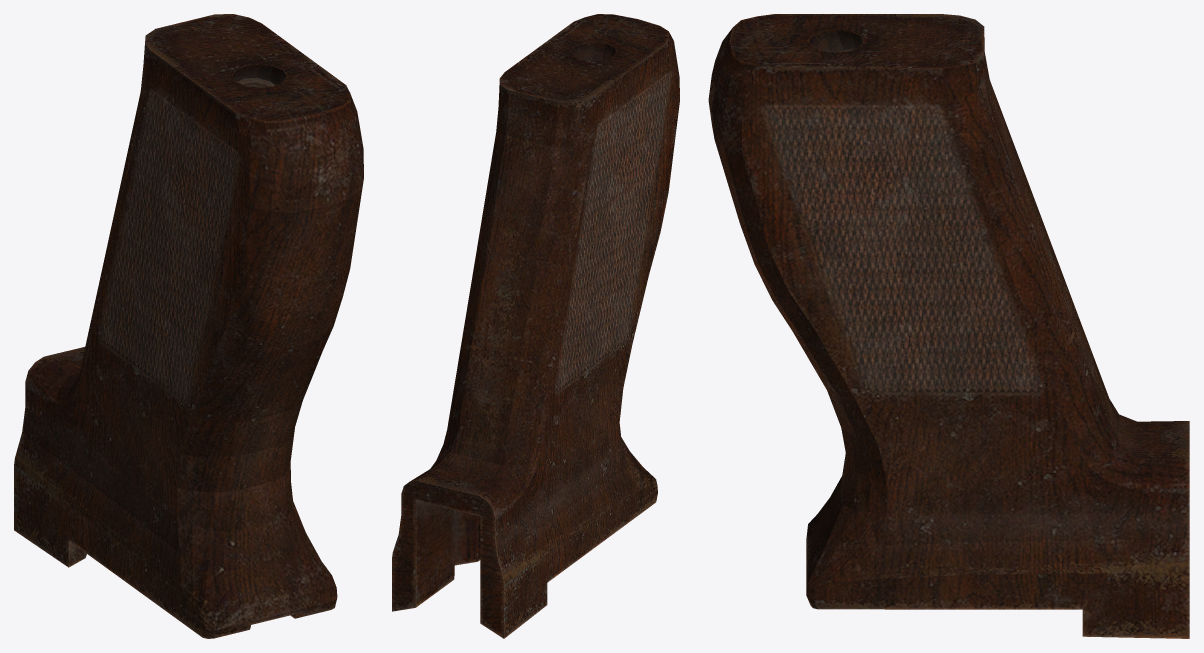
3 views of the same model, side by side, from view 1: azimuth 30°, elevation 25°; view 2: azimuth 150°, elevation 25°; view 3: azimuth 270°, elevation 25° (orthographic). The views are drawn at different scales.
Visible parts, largest first — view 1: TW_5a38eecdc4a282329a73b512_PZ_Import; view 2: TW_5a38eecdc4a282329a73b512_PZ_Import; view 3: TW_5a38eecdc4a282329a73b512_PZ_Import.
Part boxes in pixels (x1,y1,x2,y2): TW_5a38eecdc4a282329a73b512_PZ_Import: [14, 14, 363, 638]; TW_5a38eecdc4a282329a73b512_PZ_Import: [392, 14, 679, 638]; TW_5a38eecdc4a282329a73b512_PZ_Import: [708, 14, 1189, 638].
Bounding box in the file's own units: 0.0164 × 0.0504 × 0.0654.
Materials: 1 (1 with a texture image).
